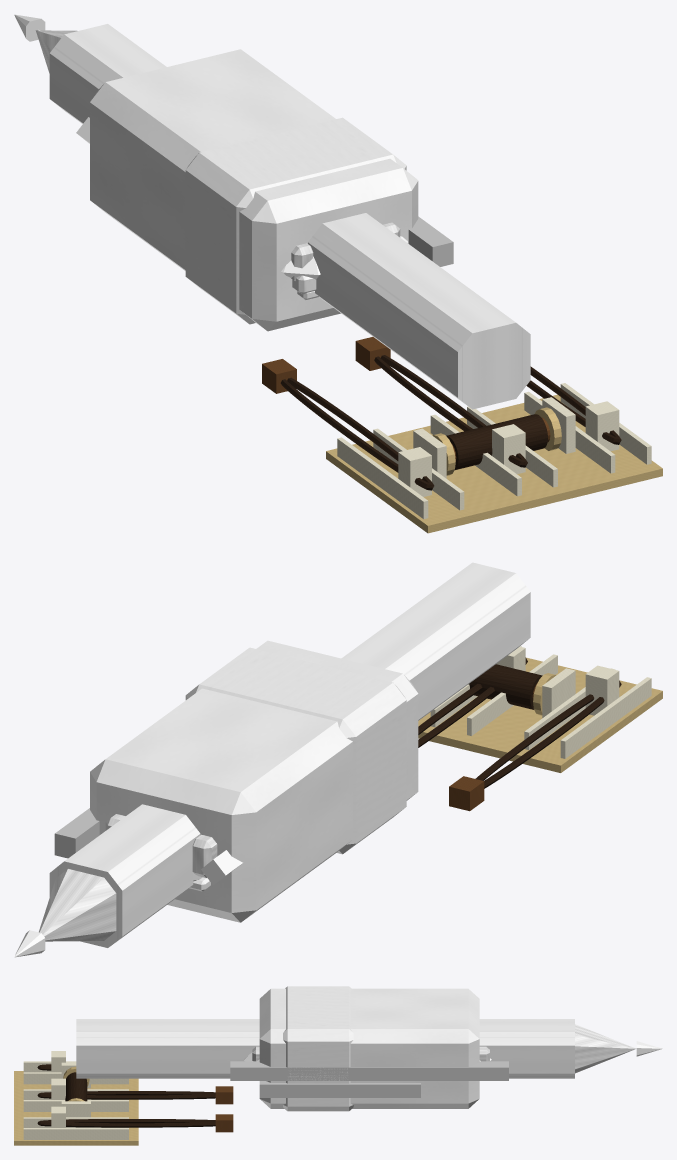
The model's file is equipment.fbx.
3 renders of one model, top to bottom at view 1: azimuth 30°, elevation 25°; view 2: azimuth 150°, elevation 25°; view 3: azimuth 270°, elevation 25°, orthographic. The views are drawn at different scales.
Parts seen in each view (by area): view 1: ammo_eraser, ammo_pencil, boost_twin, boost_spool, boost_band, launcher_paperclip, launcher_rubber; view 2: ammo_eraser, ammo_pencil, boost_twin, boost_spool, boost_band, launcher_paperclip, launcher_rubber, ammo_paperclip; view 3: ammo_eraser, ammo_pencil, launcher_paperclip, boost_twin, boost_band, boost_spool, launcher_rubber.
Boxes of the visible parts, x1,y1,x2,y2 form: ammo_eraser: (90, 49, 418, 331); ammo_pencil: (14, 14, 530, 409); boost_twin: (262, 359, 662, 533); boost_spool: (388, 397, 616, 521); boost_band: (355, 337, 569, 510); launcher_paperclip: (408, 216, 453, 266); launcher_rubber: (291, 222, 400, 294); ammo_eraser: (90, 640, 418, 922); ammo_pencil: (14, 562, 530, 957); boost_twin: (449, 665, 662, 811); boost_spool: (418, 657, 587, 761); boost_band: (418, 646, 568, 750); launcher_paperclip: (54, 808, 99, 858); launcher_rubber: (105, 814, 217, 877); ammo_paperclip: (103, 831, 242, 885); ammo_eraser: (259, 986, 479, 1111); ammo_pencil: (76, 1019, 662, 1078); launcher_paperclip: (230, 1061, 508, 1097); boost_twin: (14, 1051, 233, 1145); boost_band: (14, 1078, 233, 1113); boost_spool: (14, 1062, 138, 1126); launcher_rubber: (252, 1046, 489, 1061).
Bounding box in the file's own units: 113 × 77.55 × 442.
3 materials, 3 textured.
